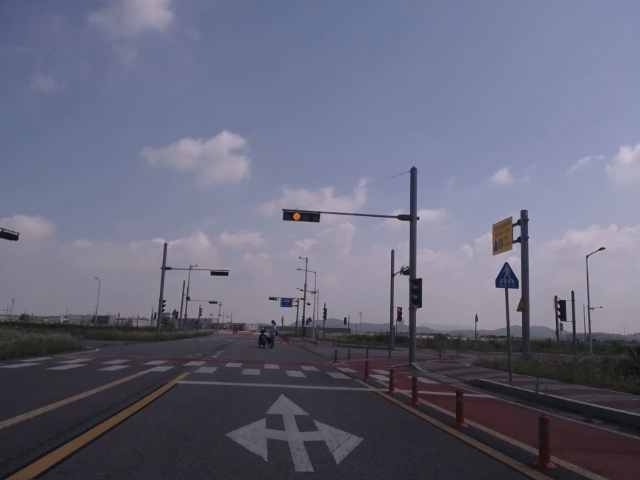orange_4: (284, 210, 323, 224)
